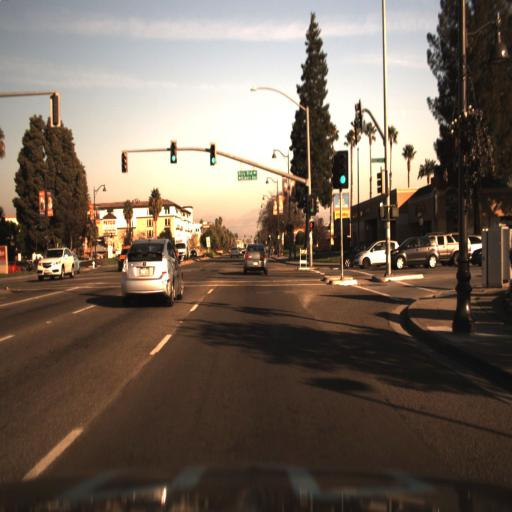car: (119, 238, 186, 309), (387, 231, 439, 272), (430, 226, 473, 269), (36, 243, 76, 281), (351, 240, 397, 269), (240, 236, 271, 276), (114, 238, 133, 275), (343, 242, 366, 270), (70, 251, 84, 277), (226, 242, 242, 263)
trafficLight: (119, 149, 129, 174)
trafficLight-Green: (335, 153, 350, 190), (169, 141, 179, 166), (169, 142, 179, 166), (307, 193, 317, 214), (209, 141, 215, 170)
